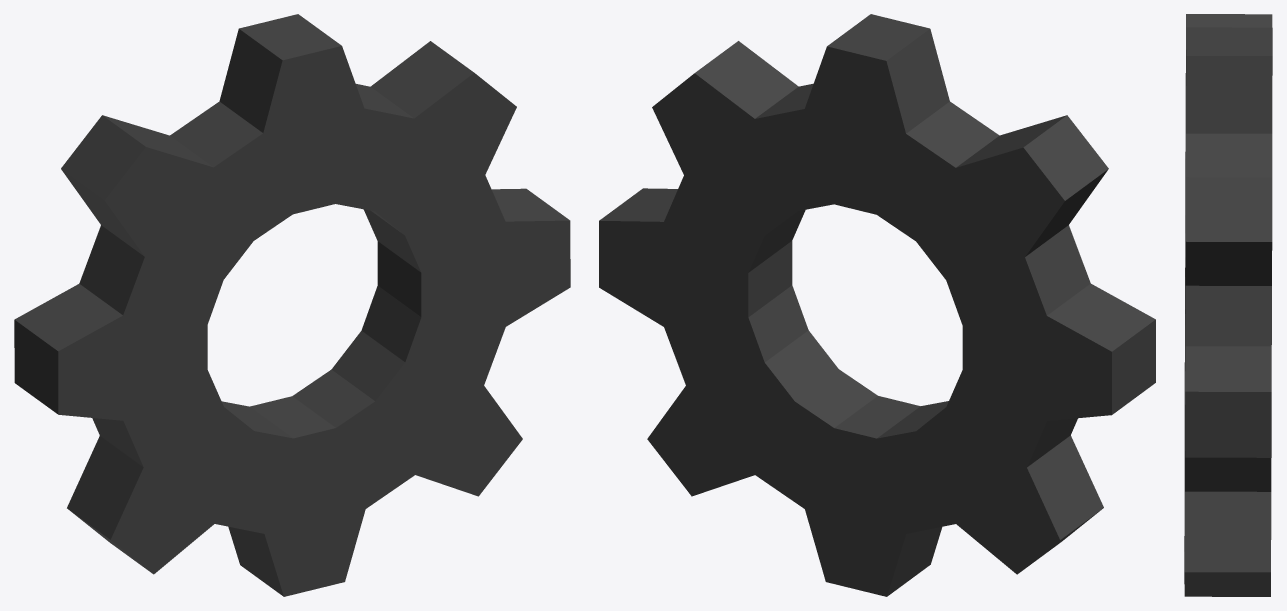
File: gear.fbx
3 views of the same model, side by side, from view 1: azimuth 30°, elevation 25°; view 2: azimuth 150°, elevation 25°; view 3: azimuth 270°, elevation 25° (orthographic).
Visible parts, largest first — view 1: gear_big; view 2: gear_big; view 3: gear_big.
Boxes of the visible parts, x1=… form: gear_big: x1=14, y1=14, x2=570, y2=596; gear_big: x1=599, y1=14, x2=1155, y2=596; gear_big: x1=1184, y1=14, x2=1272, y2=596.
Bounding box in the file's own units: 22.9 × 22.92 × 3.47.
